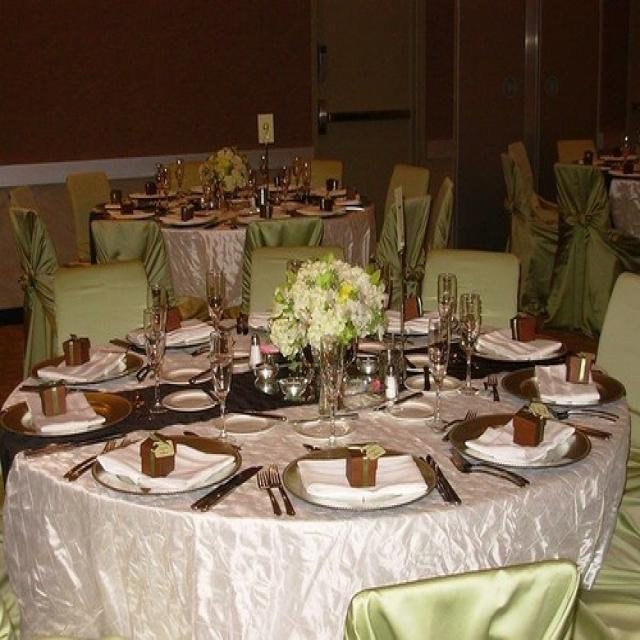chair: (344, 555, 575, 638), (552, 162, 612, 340), (497, 150, 553, 312), (50, 264, 152, 352), (588, 272, 638, 440), (418, 246, 524, 314), (91, 217, 179, 297), (240, 220, 324, 302), (247, 246, 344, 314), (8, 208, 52, 355), (378, 193, 432, 299), (64, 167, 109, 265), (430, 176, 453, 251), (385, 162, 430, 198), (304, 156, 344, 190), (162, 158, 218, 182), (550, 137, 602, 162), (508, 138, 533, 188), (6, 182, 36, 205)
diningtable: (0, 302, 630, 638), (94, 180, 376, 300), (578, 142, 638, 242)
